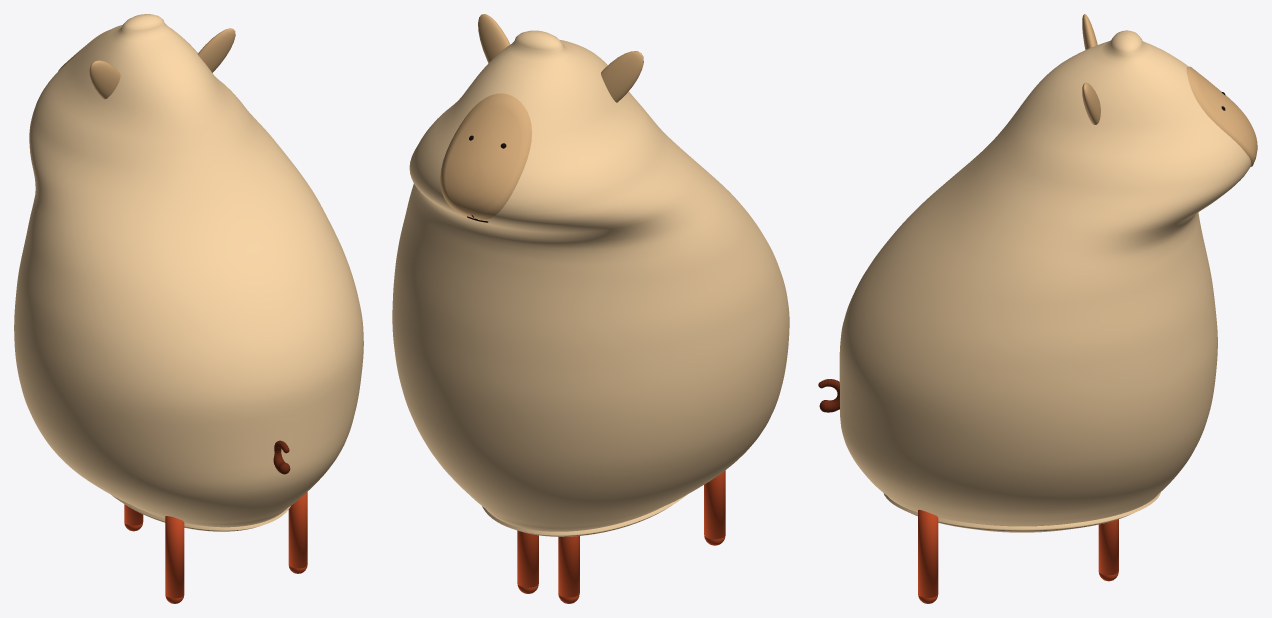
Rendered from sheep_RELEASE_v1.obj.
The picture shows the model from 3 angles, left to right: view 1: azimuth 30°, elevation 25°; view 2: azimuth 150°, elevation 25°; view 3: azimuth 270°, elevation 25°; orthographic projection. The views are drawn at different scales.
Parts seen in each view (by area): view 1: Body, Leg_BR, Leg_BL, Ear_L, Ear_R; view 2: Body, Face, Ear_R, Leg_BR, Leg_FR, Leg_FL, Ear_L; view 3: Body, Face, Leg_BL, Leg_FL.
Boxes of the visible parts, x1=… form: Body: x1=14, y1=14, x2=363, y2=531; Leg_BR: x1=165, y1=516, x2=184, y2=598; Leg_BL: x1=288, y1=492, x2=307, y2=568; Ear_L: x1=198, y1=28, x2=235, y2=72; Ear_R: x1=89, y1=60, x2=120, y2=99; Body: x1=392, y1=30, x2=789, y2=536; Face: x1=440, y1=93, x2=531, y2=219; Ear_R: x1=601, y1=51, x2=643, y2=102; Leg_BR: x1=704, y1=470, x2=725, y2=539; Leg_FR: x1=558, y1=536, x2=579, y2=597; Leg_FL: x1=517, y1=530, x2=538, y2=587; Ear_L: x1=478, y1=14, x2=510, y2=62; Body: x1=839, y1=30, x2=1251, y2=532; Face: x1=1186, y1=66, x2=1257, y2=166; Leg_BL: x1=918, y1=509, x2=938, y2=598; Leg_FL: x1=1098, y1=519, x2=1118, y2=575.
Size of the model in its own units: 1.64 by 2.62 by 1.95.
